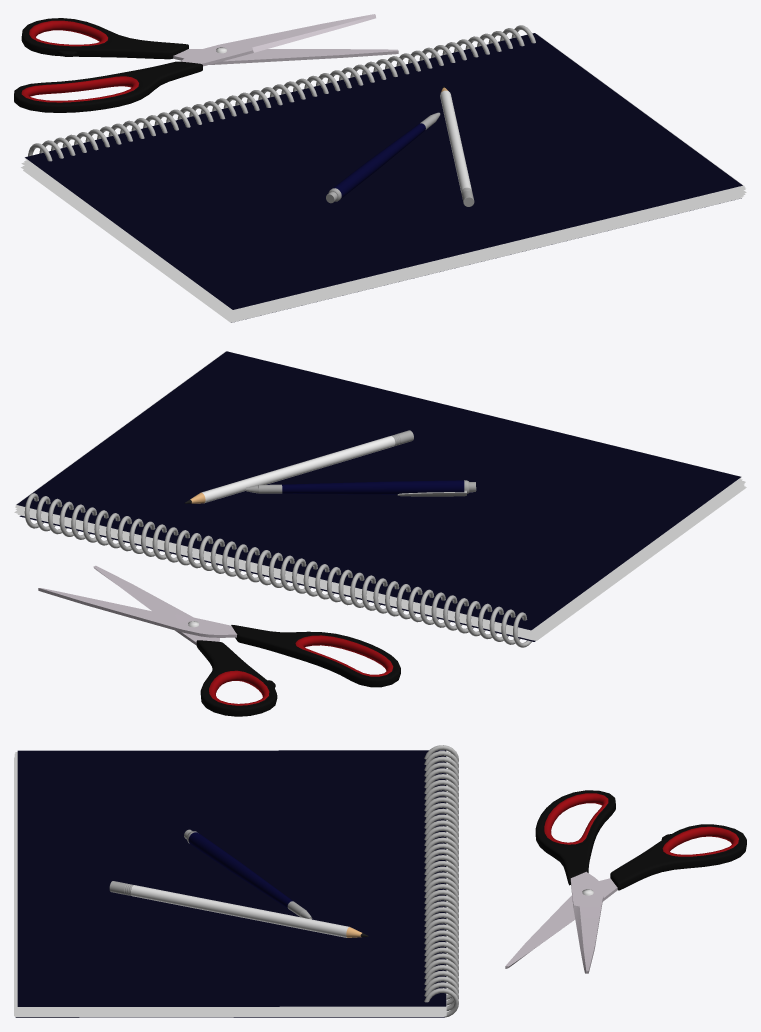
Rendered from notepad.glb.
3 renders of one model, top to bottom at view 1: azimuth 30°, elevation 25°; view 2: azimuth 150°, elevation 25°; view 3: azimuth 270°, elevation 25°, orthographic. The views are drawn at different scales.
Visible parts, largest first — view 1: Top_Page, Scissors, SM_spirals_main.003, Pen, SM_notebook_papers.119, Pencil, SM_notebook_papers.125, SM_notebook_papers.110, SM_notebook_papers.105, SM_notebook_papers.138, SM_notebook_papers.111, SM_notebook_papers.121 (+7 smaller); view 2: Top_Page, Scissors, SM_spirals_main.003, Pen, Pencil, SM_notebook_papers.117, SM_notebook_papers.119, SM_notebook_papers.112, SM_notebook_papers.131, SM_notebook_papers.127, SM_notebook_papers.126, SM_notebook_papers.106 (+2 smaller); view 3: Top_Page, Scissors, SM_spirals_main.003, Pencil, Pen, SM_notebook_papers.110, SM_notebook_papers.118, SM_notebook_papers.134, SM_notebook_papers.115, SM_notebook_papers.108, SM_notebook_papers.120, SM_notebook_papers.111 (+1 smaller).
Part boxes in pixels (x1,y1,x2,y2): Top_Page: (25,33,742,309); Scissors: (14,14,398,112); SM_spirals_main.003: (28,25,535,161); Pen: (326,112,440,203); SM_notebook_papers.119: (21,162,739,315); Pencil: (440,86,474,206); SM_notebook_papers.125: (25,166,742,319); SM_notebook_papers.110: (27,159,744,311); SM_notebook_papers.105: (23,170,740,322); SM_notebook_papers.138: (232,195,742,320); SM_notebook_papers.111: (235,187,745,312); SM_notebook_papers.121: (231,191,741,316); Top_Page: (16,351,740,630); Scissors: (38,565,400,716); SM_spirals_main.003: (24,493,531,647); Pen: (246,480,476,496); Pencil: (184,430,413,503); SM_notebook_papers.117: (18,479,742,633); SM_notebook_papers.119: (532,481,745,635); SM_notebook_papers.112: (17,481,741,634); SM_notebook_papers.131: (22,486,745,639); SM_notebook_papers.127: (20,485,744,638); SM_notebook_papers.126: (17,509,533,636); SM_notebook_papers.106: (15,351,530,630); Top_Page: (17,750,446,1006); Scissors: (505,790,746,973); SM_spirals_main.003: (424,745,458,1017); Pencil: (109,881,368,937); Pen: (184,829,312,919); SM_notebook_papers.110: (15,752,444,1008); SM_notebook_papers.118: (14,757,442,1013); SM_notebook_papers.134: (17,762,446,1016); SM_notebook_papers.115: (16,1010,444,1012); SM_notebook_papers.108: (17,1008,446,1009); SM_notebook_papers.120: (14,1013,443,1014); SM_notebook_papers.111: (14,754,334,1009).
Size of the model in its own units: 0.3008 by 0.0179 by 0.3589.
